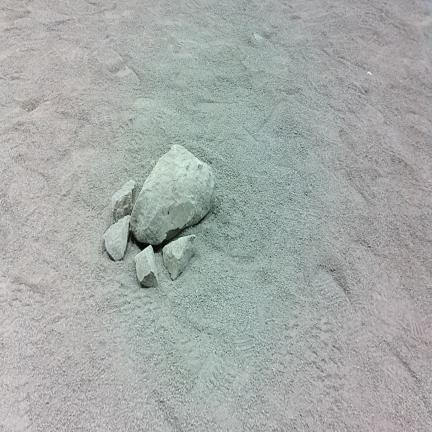Rock: (131, 145, 215, 244), (163, 235, 196, 280), (104, 216, 130, 260), (111, 180, 135, 222), (134, 245, 158, 287)
